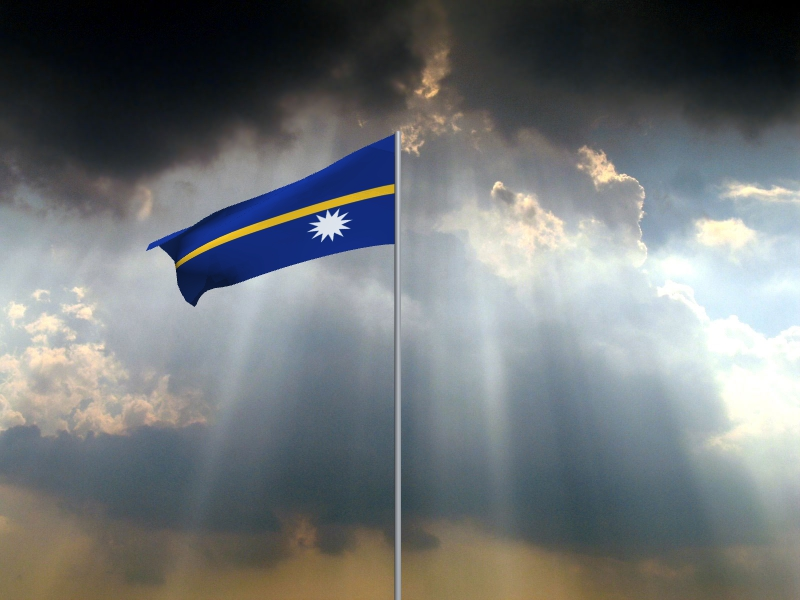nr: (146, 134, 395, 308)
